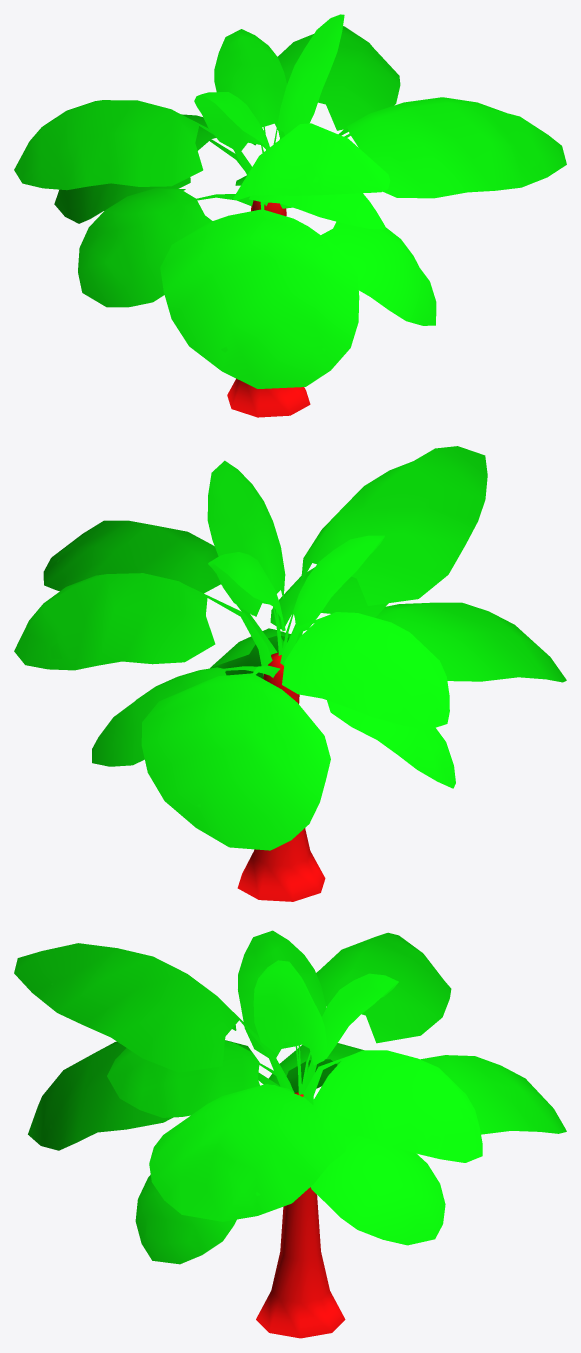
Rendered from Philodendron_Medium_OneMesh_2018.FBX.
The picture shows the model from 3 angles, top to bottom: view 1: azimuth 30°, elevation 25°; view 2: azimuth 150°, elevation 25°; view 3: azimuth 270°, elevation 25°; orthographic projection. The views are drawn at different scales.
Visible parts, largest first — view 1: PhilodendronMedium_LOD0; view 2: PhilodendronMedium_LOD0; view 3: PhilodendronMedium_LOD0.
Boxes of the visible parts, x1,y1,x2,y2 form: PhilodendronMedium_LOD0: [14, 14, 566, 417]; PhilodendronMedium_LOD0: [14, 446, 566, 901]; PhilodendronMedium_LOD0: [14, 930, 566, 1338].
Size of what is drawn, in the model's own units: 48.59 by 38.27 by 48.94.
